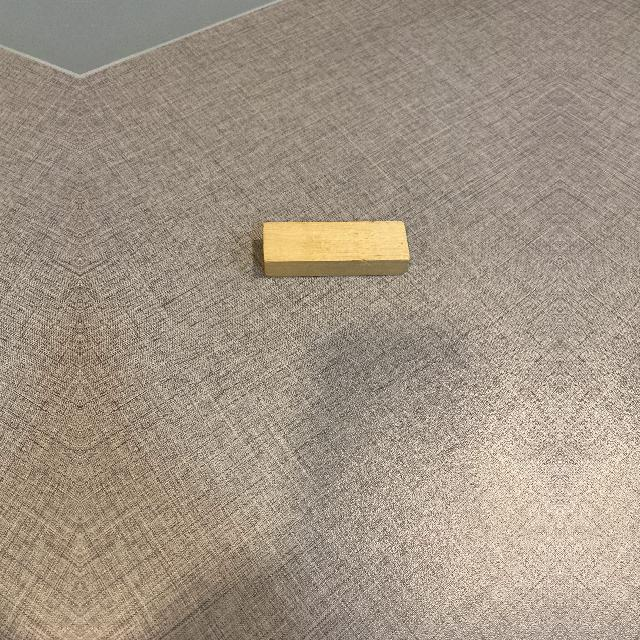jenga: (262, 222, 408, 274)
